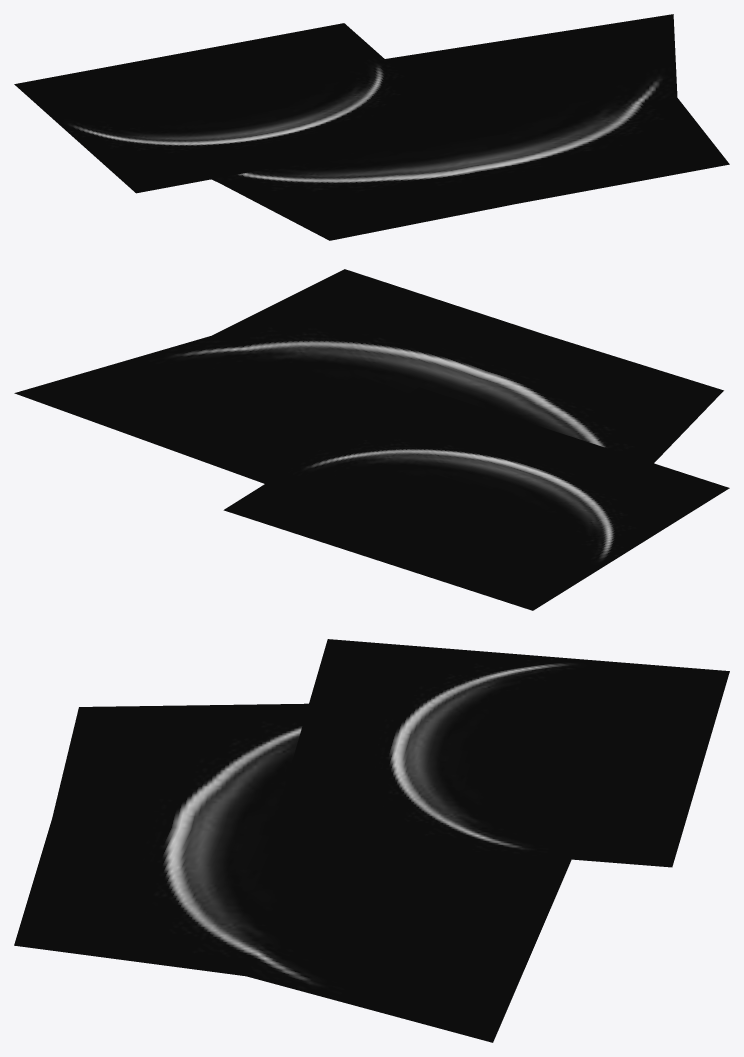
The model's file is lufei1_g0-1.fbx.
The picture shows the model from 3 angles, top to bottom: view 1: azimuth 30°, elevation 25°; view 2: azimuth 150°, elevation 25°; view 3: azimuth 270°, elevation 25°; orthographic projection. The views are drawn at different scales.
Visible parts, largest first — view 1: lufei1_g1_L0_add, lufei1_g0_L0_add; view 2: lufei1_g1_L0_add, lufei1_g0_L0_add; view 3: lufei1_g1_L0_add, lufei1_g0_L0_add.
Boxes of the visible parts, x1,y1,x2,y2 form: lufei1_g1_L0_add: [211, 14, 729, 240]; lufei1_g0_L0_add: [14, 23, 466, 193]; lufei1_g1_L0_add: [14, 269, 723, 483]; lufei1_g0_L0_add: [223, 387, 729, 610]; lufei1_g1_L0_add: [14, 703, 571, 1042]; lufei1_g0_L0_add: [270, 639, 729, 867].
Size of the model in its own units: 16.34 by 0.42 by 12.78.
